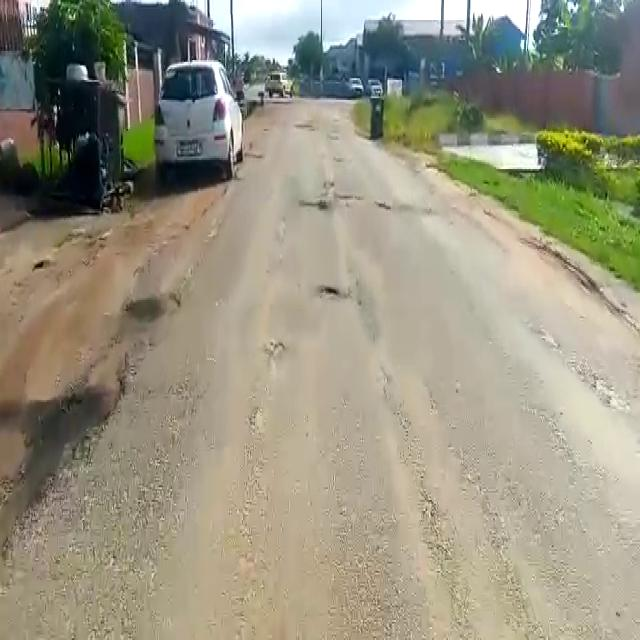Pothole: (316, 283, 342, 300)
